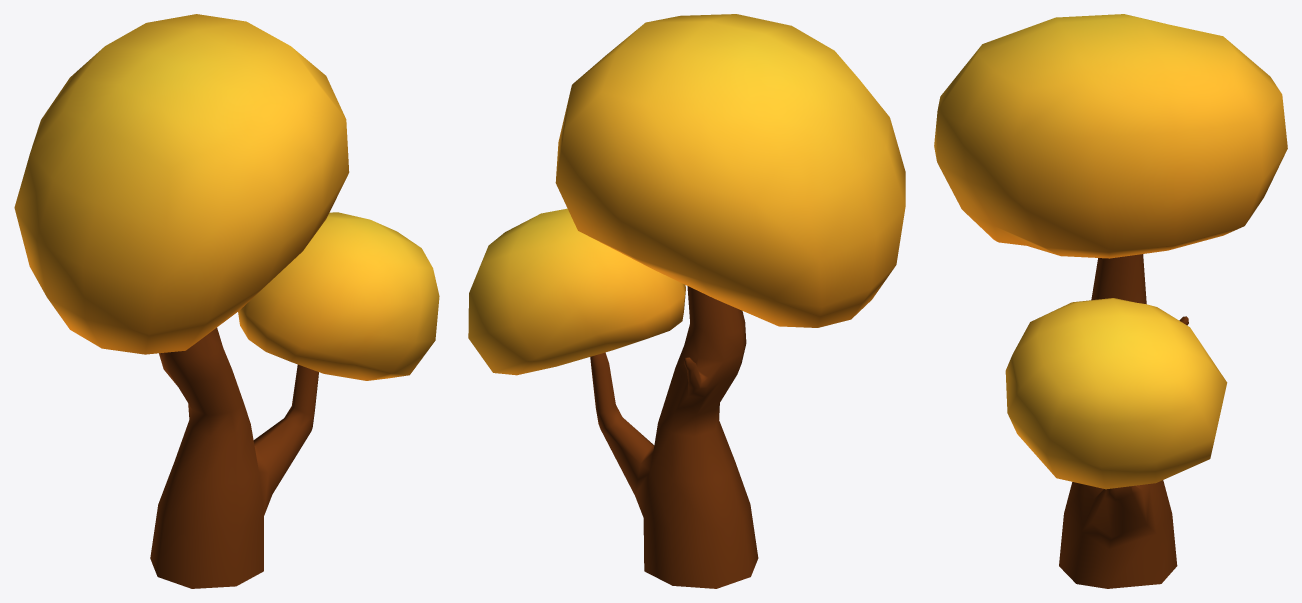
The model's file is SM_Tree_26.fbx.
3 views of the same model, side by side, from view 1: azimuth 30°, elevation 25°; view 2: azimuth 150°, elevation 25°; view 3: azimuth 270°, elevation 25° (orthographic). The views are drawn at different scales.
Visible parts, largest first — view 1: SM_Tree_26; view 2: SM_Tree_26; view 3: SM_Tree_26.
Part boxes in pixels (<box>): SM_Tree_26: <box>14,14,439,588</box>; SM_Tree_26: <box>468,14,905,588</box>; SM_Tree_26: <box>934,14,1287,588</box>.
Size of the model in its own units: 740 by 955 by 576.
